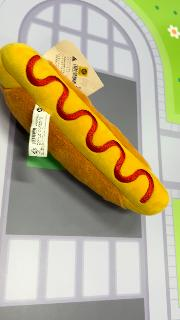hotdog: (0, 42, 170, 216)
